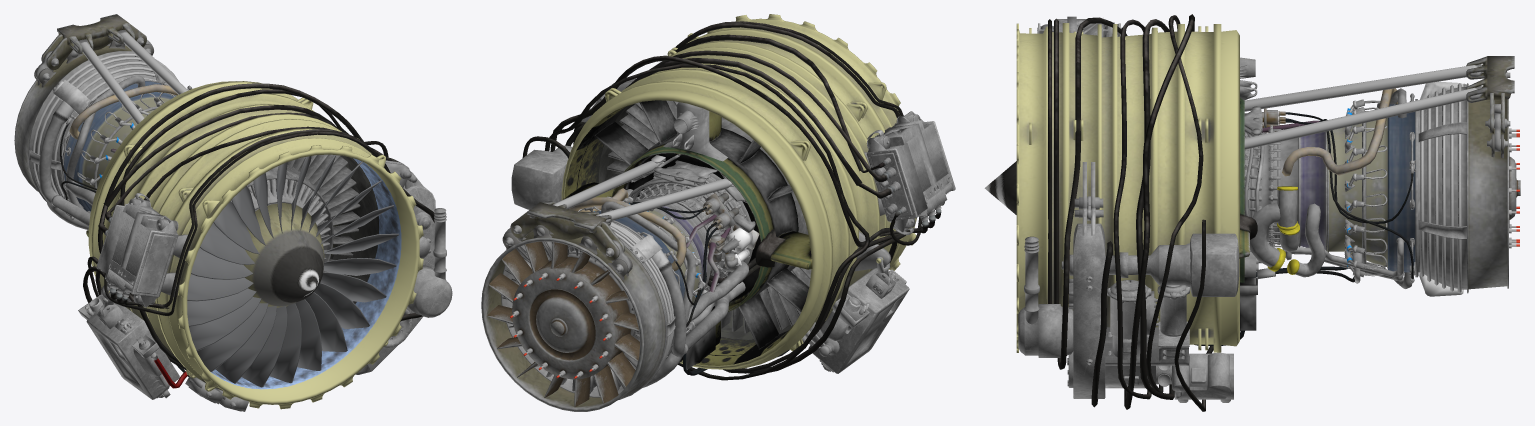
Rendered from engine_cfm56-7b.glb.
3 renders of one model, left to right at view 1: azimuth 30°, elevation 25°; view 2: azimuth 150°, elevation 25°; view 3: azimuth 270°, elevation 25°, orthographic. The views are drawn at different scales.
Visible parts, largest first — view 1: g (×20); view 2: g (×27); view 3: g (×22).
Part boxes in pixels (x1=…): g (×20): x1=14, y1=14, x2=452, y2=411; g (×27): x1=481, y1=14, x2=955, y2=411; g (×22): x1=984, y1=14, x2=1520, y2=411.
Size of the model in its own units: 1.66 by 1.34 by 2.
4 materials, 4 textured.
